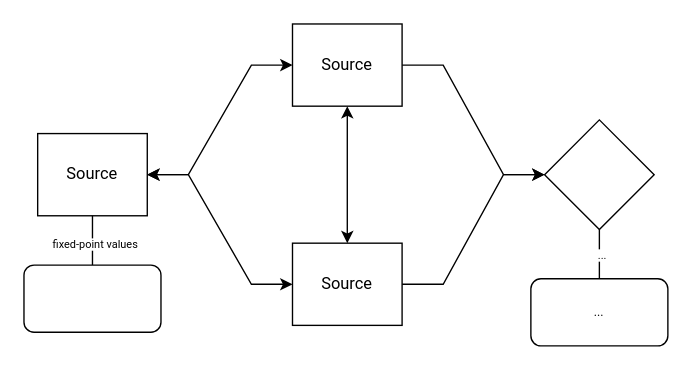
This 692x370 diagram has some shape labels left out. Here are the shapes that lost their labels. From the top down, the box of each, then its label:
(543, 119, 654, 229): Sink
(23, 264, 161, 332): Temperature and humidity library. Produces every 200ms
